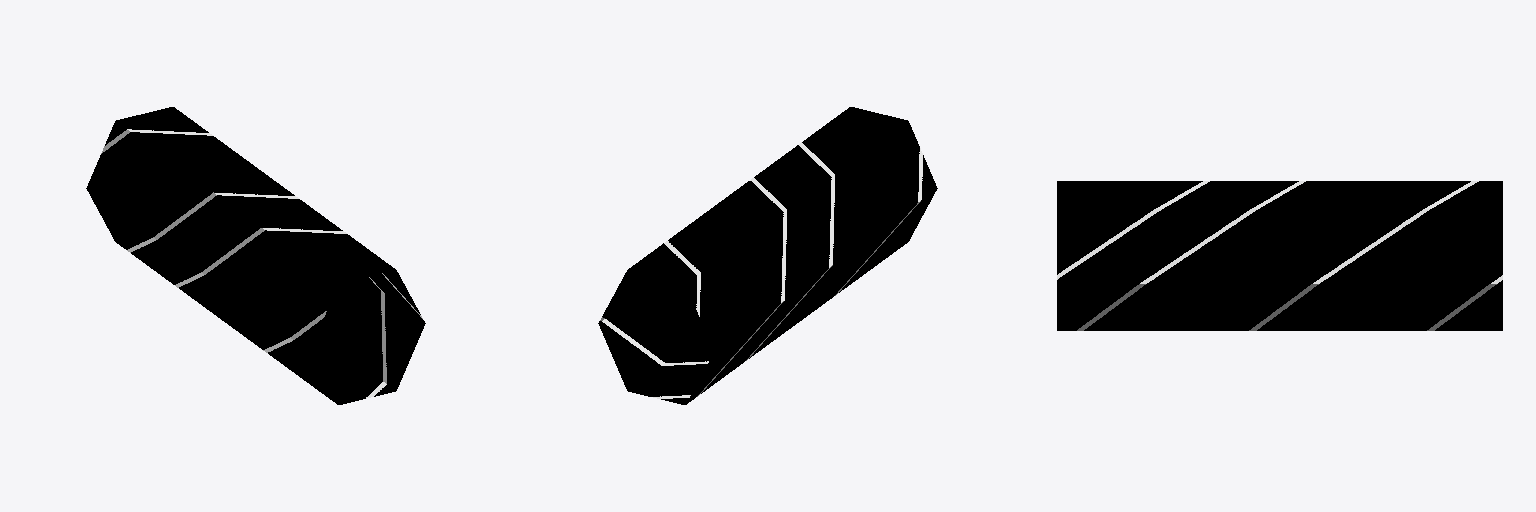
3 renders of one model, left to right at view 1: azimuth 30°, elevation 25°; view 2: azimuth 150°, elevation 25°; view 3: azimuth 270°, elevation 25°, orthographic.
Visible parts, largest first — view 1: トーラス; view 2: トーラス; view 3: トーラス.
Part boxes in pixels (left/top/right/bottom): トーラス: left=86, top=107, right=425, bottom=404; トーラス: left=598, top=107, right=937, bottom=404; トーラス: left=1057, top=181, right=1502, bottom=330.
Size of the model in its own units: 0.3 by 0.3 by 1.
1 materials, 1 textured.